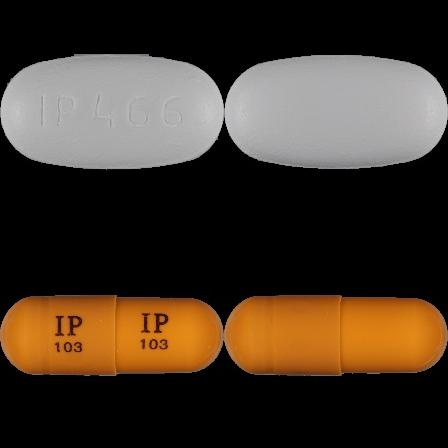63739-691: (0, 0, 224, 224)
